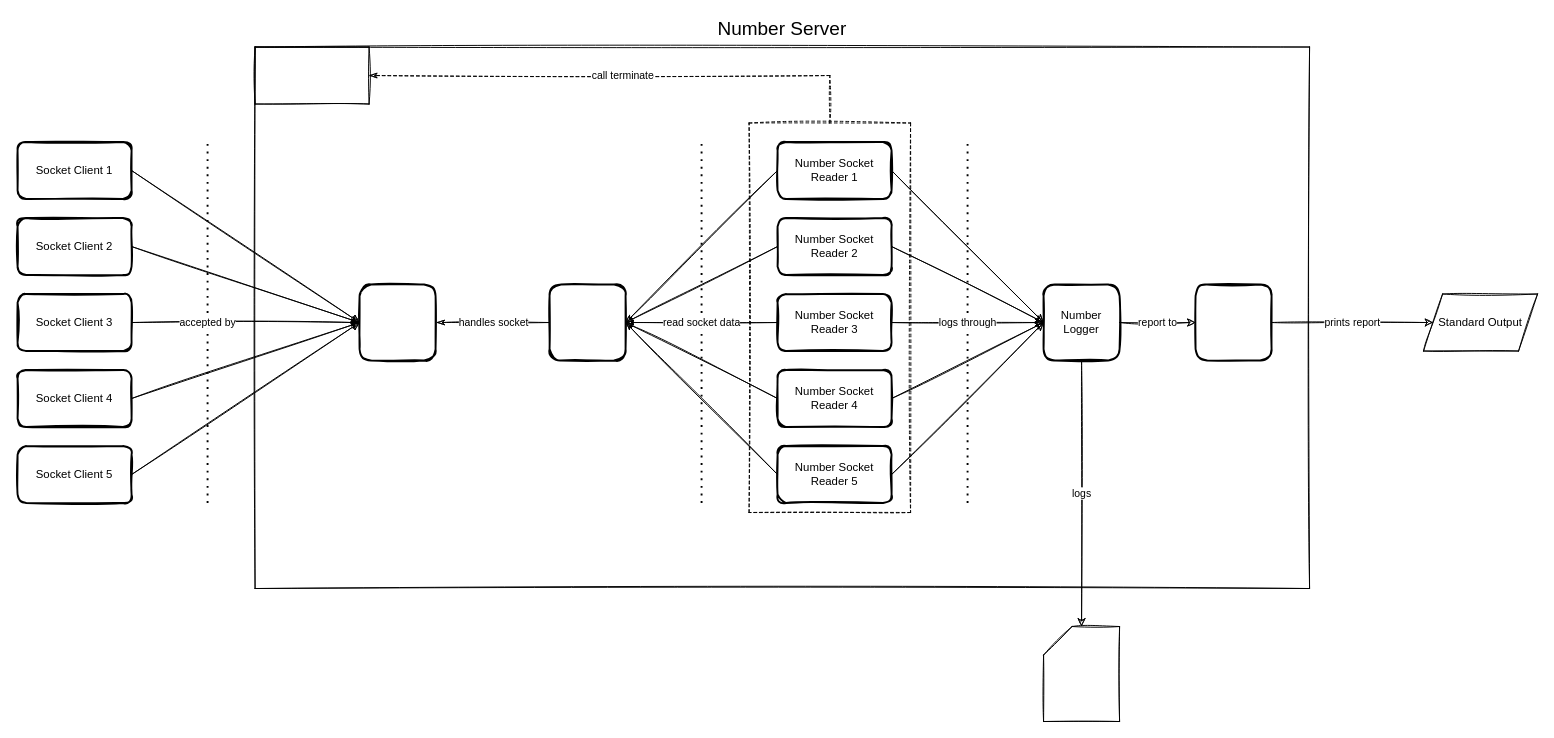
Image size: 1554x738. Some labels were removed from this diagram. The shapes that lost their labels are listed below. From the top down, each one's centre as x and y in pixels, then its label:
At point 311,75: "Termitator".
At point 397,322: "Socket Service".
At point 587,322: "Number Socket Handler".
At point 1233,322: "Number Reporter".
At point 1081,674: "numbers.log".
